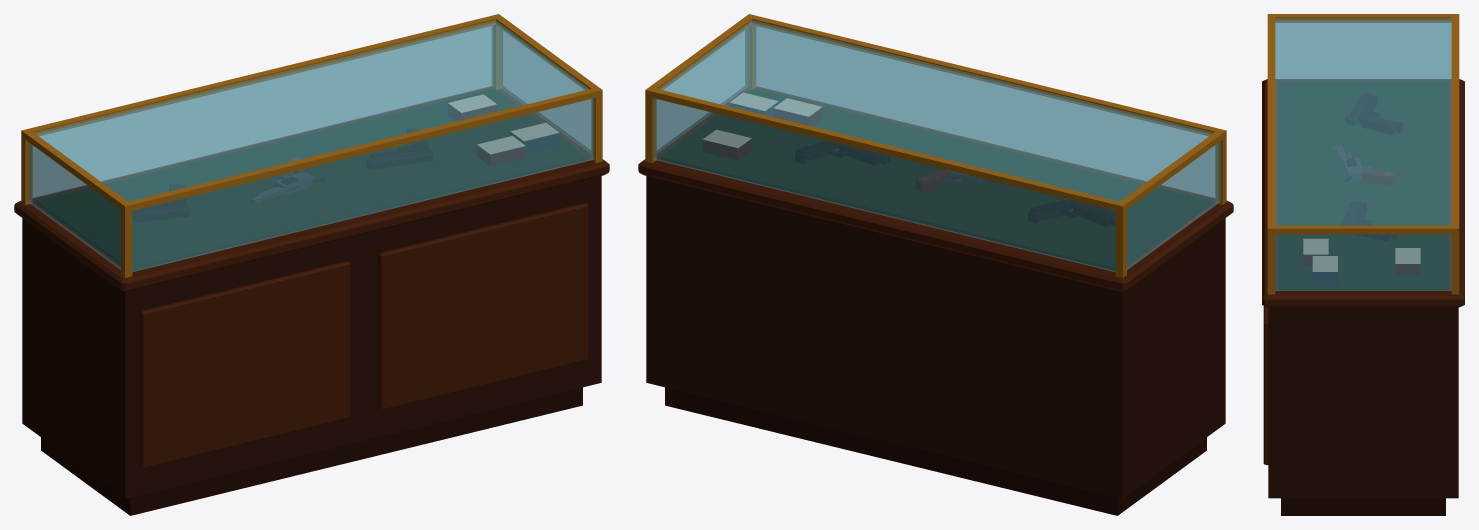
The model's file is SM_Shop_DisplayCase.glb.
The picture shows the model from 3 angles, left to right: view 1: azimuth 30°, elevation 25°; view 2: azimuth 150°, elevation 25°; view 3: azimuth 270°, elevation 25°; orthographic projection. The views are drawn at different scales.
Visible parts, largest first — view 1: SM_Shop_DisplayCase; view 2: SM_Shop_DisplayCase; view 3: SM_Shop_DisplayCase.
Boxes of the visible parts, box(x1,y1,x2,y2) form: SM_Shop_DisplayCase: box(14, 14, 609, 515); SM_Shop_DisplayCase: box(638, 14, 1233, 515); SM_Shop_DisplayCase: box(1262, 14, 1464, 515).
Size of the model in its own units: 1.64 by 1.02 by 0.64.
2 materials, 2 textured.
